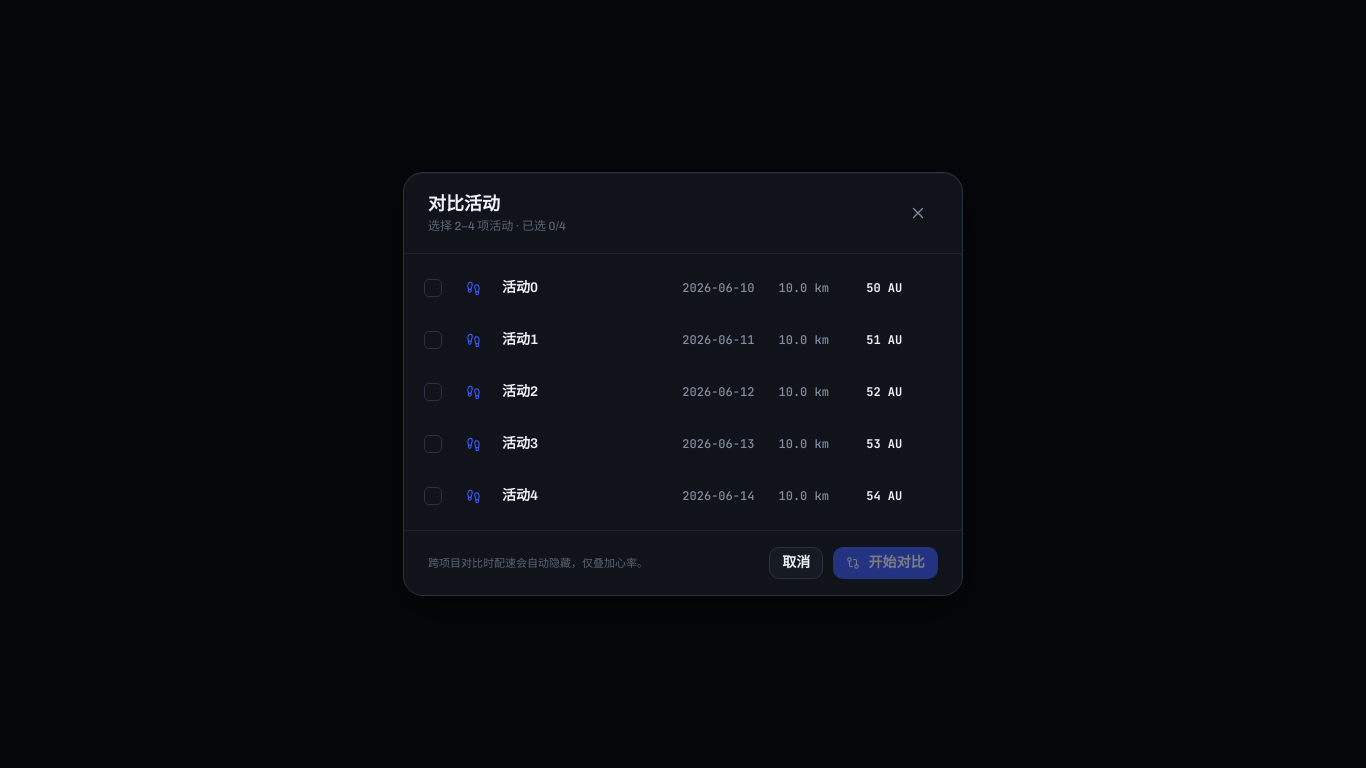
Test: CompareModal (#46 D) › caps the selection at 4
This screenshot has width=1366, height=768.
Click the button "活动0 2026-06-10 10.0 km 50 AU" at (683, 288), box [404, 262, 962, 314]
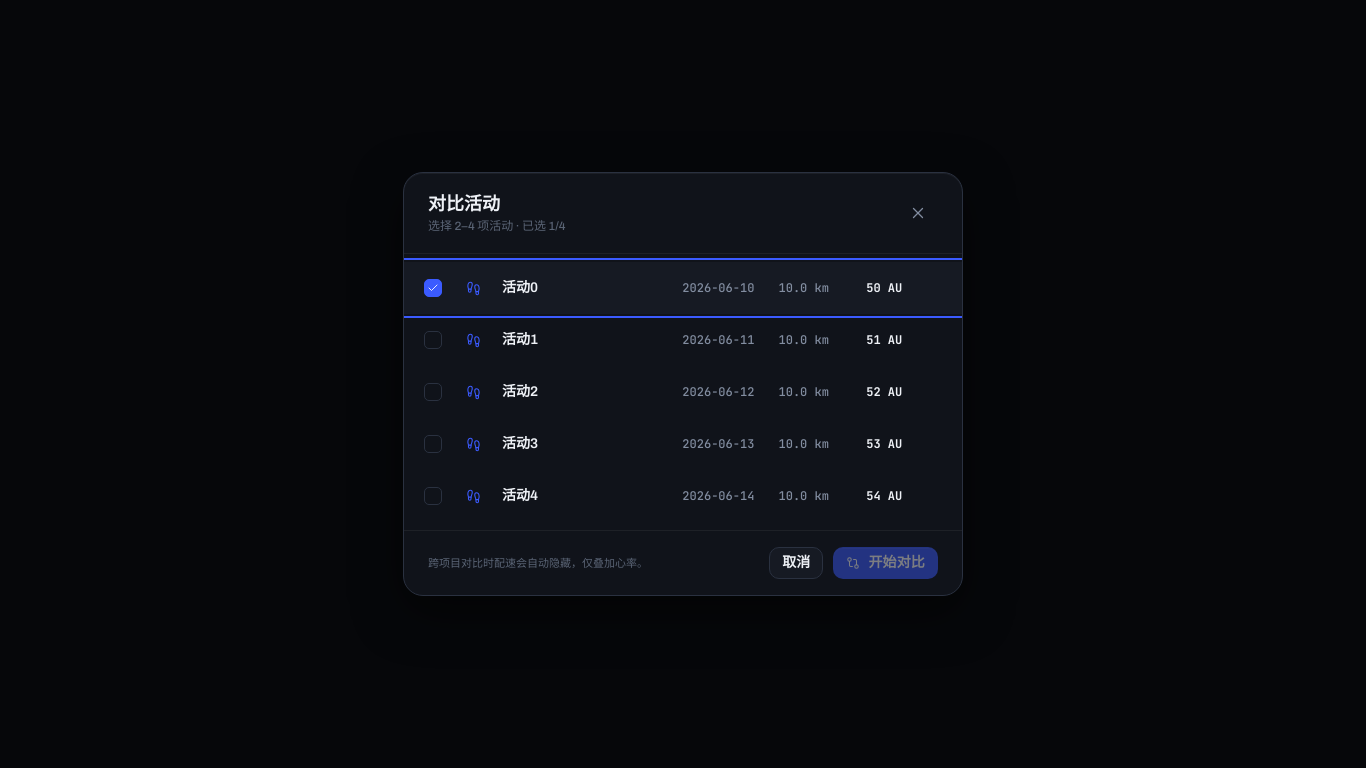
Click the button "活动1 2026-06-11 10.0 km 51 AU" at (683, 340), box [404, 314, 962, 366]
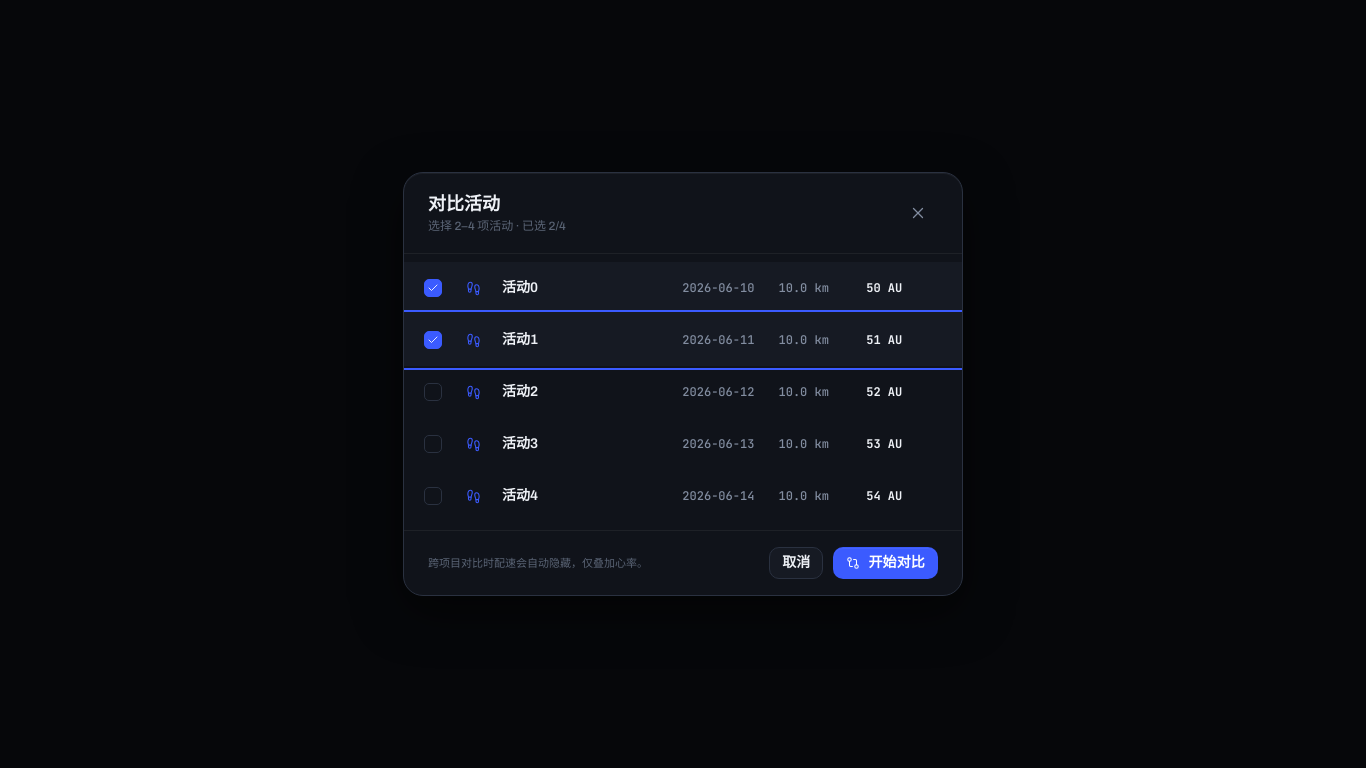
Click the button "活动2 2026-06-12 10.0 km 52 AU" at (683, 392), box [404, 366, 962, 418]
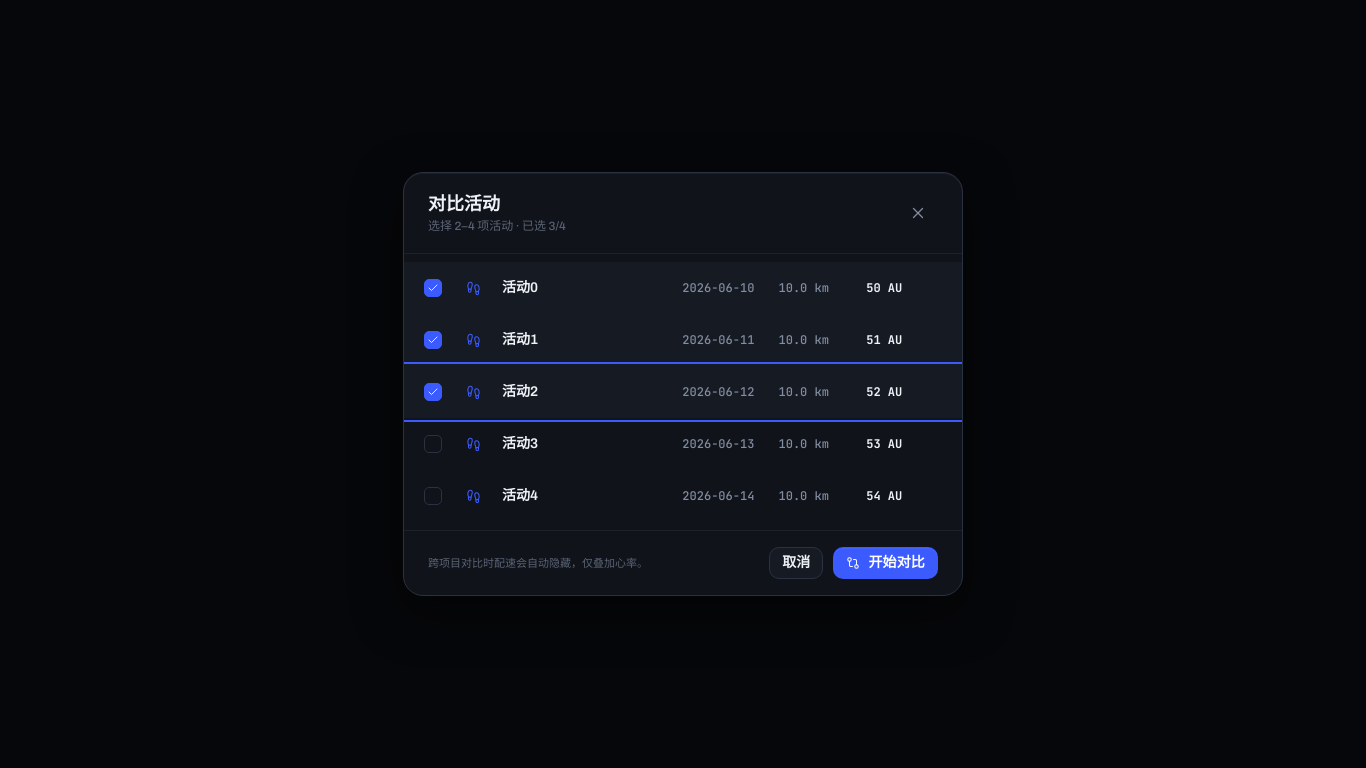
Click the button "活动3 2026-06-13 10.0 km 53 AU" at (683, 444), box [404, 418, 962, 470]
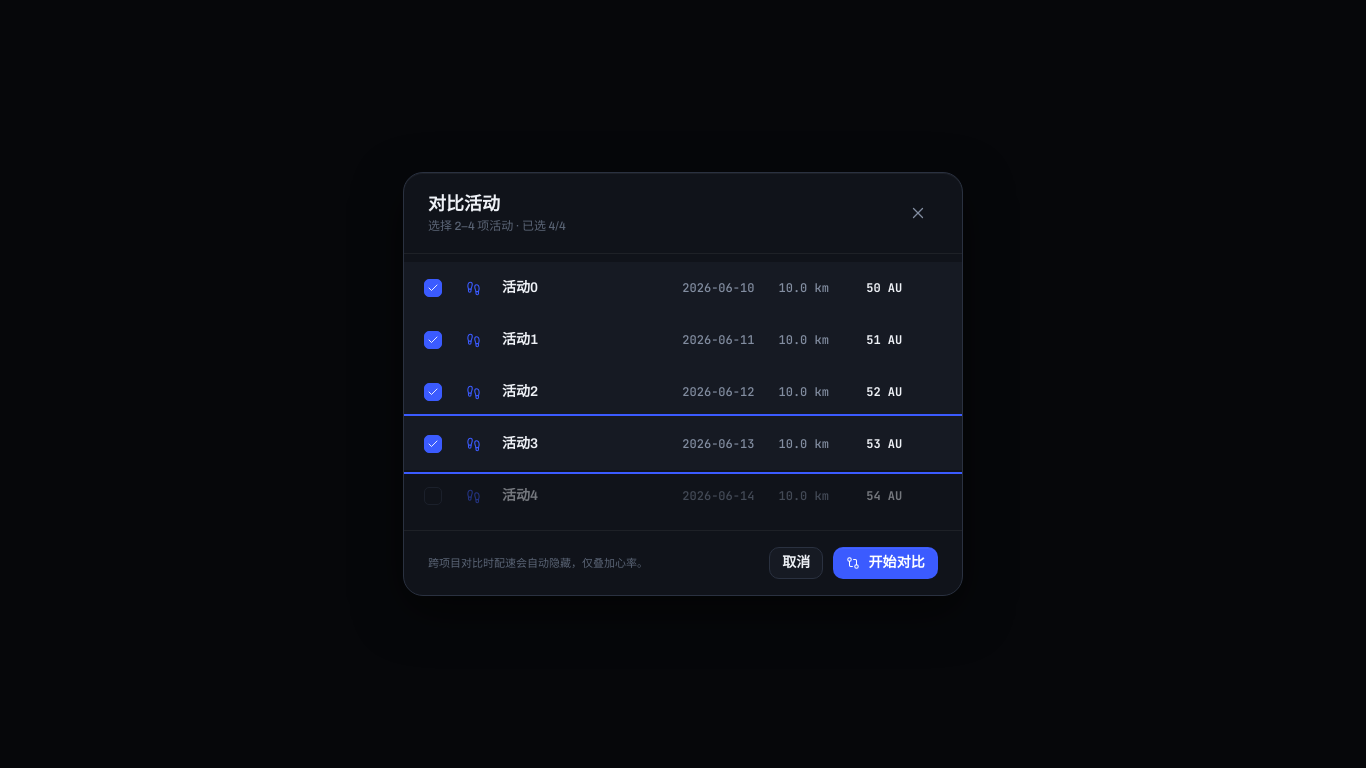
expect the button "活动4 2026-06-14 10.0 km 54 AU" is disabled: met, box [404, 470, 962, 522]
